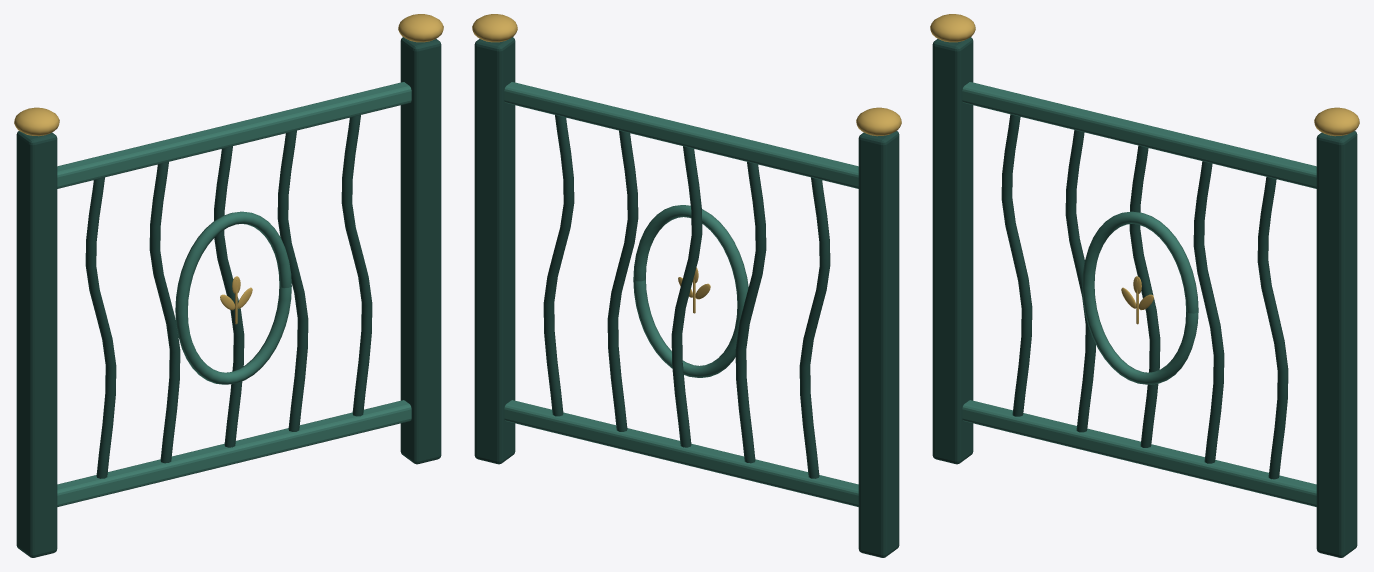
File: railing.glb
The picture shows the model from 3 angles, left to right: view 1: azimuth 30°, elevation 25°; view 2: azimuth 150°, elevation 25°; view 3: azimuth 330°, elevation 25°; orthographic projection.
Parts seen in each view (by area): view 1: Capped_post, Capped_post.001, Continuous_rail.001, Continuous_rail, Oval_medallion, Curving_spindle.004, Curving_spindle, Curving_spindle.001, Curving_spindle.003, Curving_spindle.002, Brass_post_cap.001, Brass_post_cap; view 2: Capped_post, Capped_post.001, Continuous_rail.001, Continuous_rail, Oval_medallion, Curving_spindle.001, Curving_spindle.002, Curving_spindle.003, Curving_spindle.004, Curving_spindle, Brass_post_cap.001, Brass_post_cap; view 3: Capped_post.001, Capped_post, Continuous_rail.001, Continuous_rail, Oval_medallion, Curving_spindle, Curving_spindle.004, Curving_spindle.003, Curving_spindle.002, Curving_spindle.001, Brass_post_cap, Brass_post_cap.001.
Part boxes in pixels (x1,y1,x2,y2): Capped_post: [16, 131, 57, 557]; Capped_post.001: [400, 37, 441, 464]; Continuous_rail.001: [57, 82, 411, 188]; Continuous_rail: [57, 400, 411, 506]; Oval_medallion: [175, 211, 291, 384]; Curving_spindle.004: [341, 115, 372, 416]; Curving_spindle: [85, 177, 116, 478]; Curving_spindle.001: [149, 162, 180, 463]; Curving_spindle.003: [277, 130, 308, 431]; Curving_spindle.002: [214, 146, 244, 447]; Brass_post_cap.001: [398, 14, 443, 42]; Brass_post_cap: [14, 107, 59, 136]; Capped_post: [858, 131, 899, 557]; Capped_post.001: [474, 37, 515, 464]; Continuous_rail.001: [504, 82, 858, 188]; Continuous_rail: [504, 400, 858, 506]; Oval_medallion: [633, 205, 748, 377]; Curving_spindle.001: [735, 162, 766, 463]; Curving_spindle.002: [671, 146, 702, 447]; Curving_spindle.003: [607, 130, 638, 431]; Curving_spindle.004: [543, 115, 574, 416]; Curving_spindle: [799, 177, 830, 478]; Brass_post_cap.001: [472, 14, 517, 42]; Brass_post_cap: [856, 107, 901, 136]; Capped_post.001: [1316, 131, 1357, 557]; Capped_post: [932, 37, 973, 464]; Continuous_rail.001: [962, 82, 1316, 188]; Continuous_rail: [962, 400, 1316, 506]; Oval_medallion: [1082, 211, 1198, 384]; Curving_spindle: [1001, 114, 1032, 416]; Curving_spindle.004: [1257, 177, 1288, 479]; Curving_spindle.003: [1193, 161, 1224, 463]; Curving_spindle.002: [1129, 145, 1160, 447]; Curving_spindle.001: [1065, 130, 1095, 432]; Brass_post_cap: [930, 14, 975, 42]; Brass_post_cap.001: [1314, 107, 1359, 136].
Bounding box in the file's own units: 1.06 × 1.05 × 0.1.
